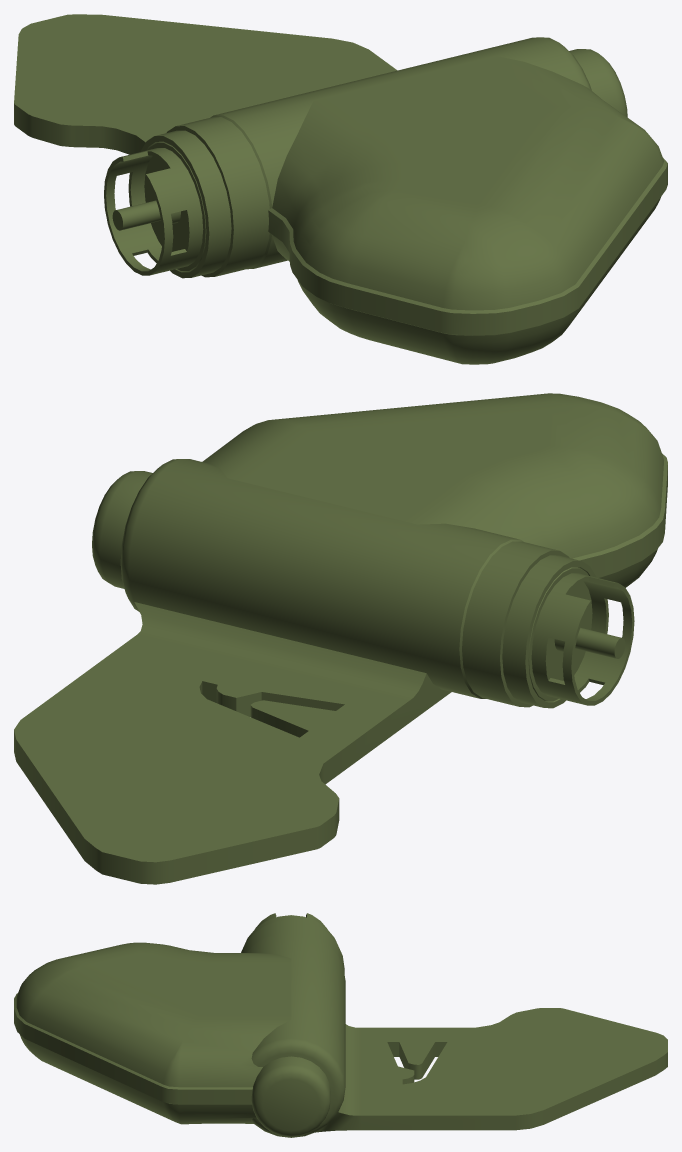
Rendered from pfm-1.glb.
The picture shows the model from 3 angles, top to bottom: view 1: azimuth 30°, elevation 25°; view 2: azimuth 150°, elevation 25°; view 3: azimuth 270°, elevation 25°; orthographic projection. The views are drawn at different scales.
Parts seen in each view (by area): view 1: Mesh3_FrontColor_0, Mesh5_FrontColor_0, Mesh1_FrontColor_0, Mesh2_FrontColor_0; view 2: Mesh5_FrontColor_0, Mesh2_FrontColor_0, Mesh3_FrontColor_0, Mesh1_FrontColor_0; view 3: Mesh3_FrontColor_0, Mesh5_FrontColor_0, Mesh2_FrontColor_0, Mesh1_FrontColor_0.
Boxes of the visible parts, x1=… form: Mesh3_FrontColor_0: x1=268, y1=56, x2=667, y2=364; Mesh5_FrontColor_0: x1=14, y1=14, x2=397, y2=154; Mesh1_FrontColor_0: x1=104, y1=117, x2=269, y2=278; Mesh2_FrontColor_0: x1=210, y1=37, x2=627, y2=269; Mesh5_FrontColor_0: x1=14, y1=602, x2=451, y2=884; Mesh2_FrontColor_0: x1=92, y1=459, x2=523, y2=698; Mesh3_FrontColor_0: x1=202, y1=393, x2=667, y2=587; Mesh1_FrontColor_0: x1=462, y1=541, x2=634, y2=708; Mesh3_FrontColor_0: x1=14, y1=942, x2=291, y2=1124; Mesh5_FrontColor_0: x1=315, y1=1008, x2=667, y2=1132; Mesh2_FrontColor_0: x1=247, y1=931, x2=345, y2=1137; Mesh1_FrontColor_0: x1=241, y1=913, x2=344, y2=973.
Size of what is drawn, in the model's own units: 0.7087 by 0.2 by 1.2.
